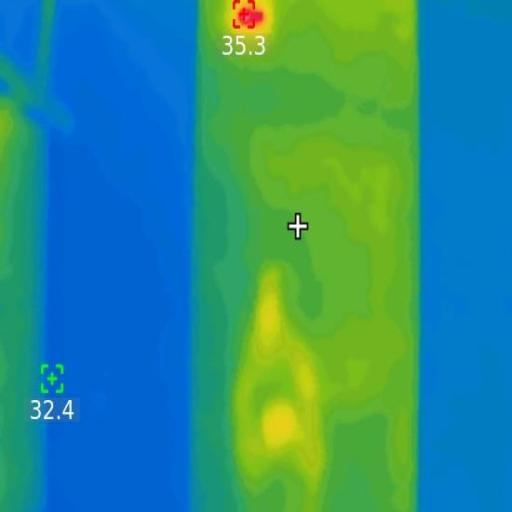hotspot: (233, 5, 273, 29)
